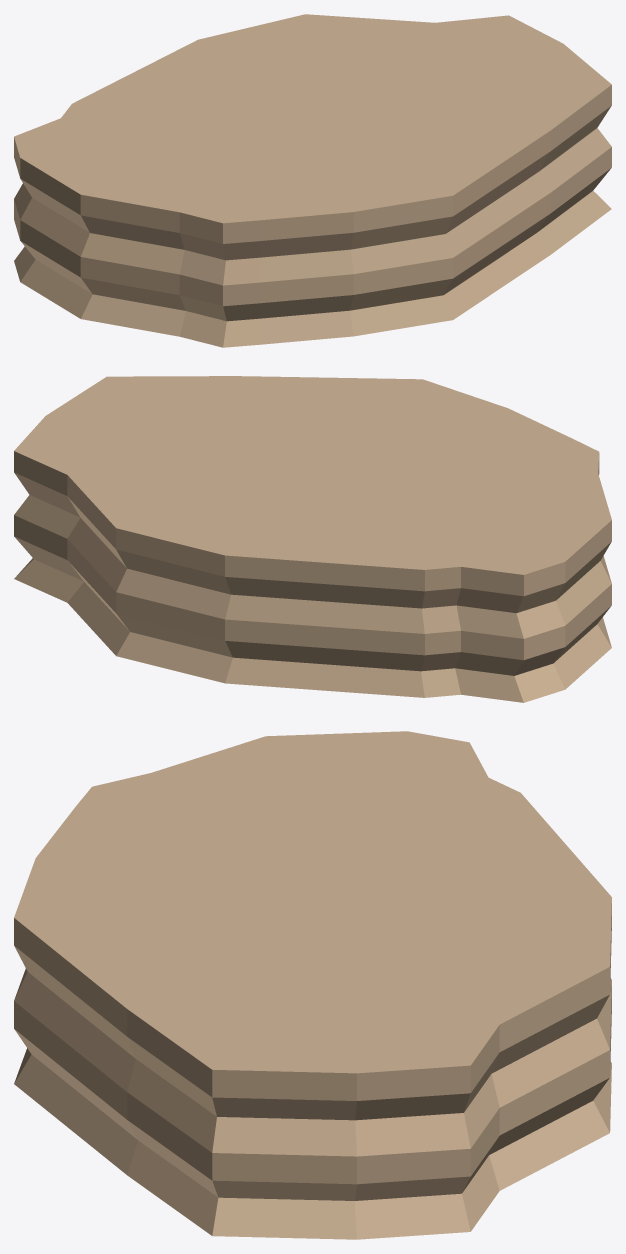
Rendered from flat_rock_big_02.fbx.
3 views of the same model, one above another, from view 1: azimuth 30°, elevation 25°; view 2: azimuth 150°, elevation 25°; view 3: azimuth 270°, elevation 25° (orthographic). The views are drawn at different scales.
Parts seen in each view (by area): view 1: flat_rock_big_02; view 2: flat_rock_big_02; view 3: flat_rock_big_02.
Part boxes in pixels (<box>): flat_rock_big_02: <box>14,14,611,347</box>; flat_rock_big_02: <box>14,376,611,702</box>; flat_rock_big_02: <box>14,731,611,1239</box>.
Size of the model in its own units: 1864 by 423 by 1377.
